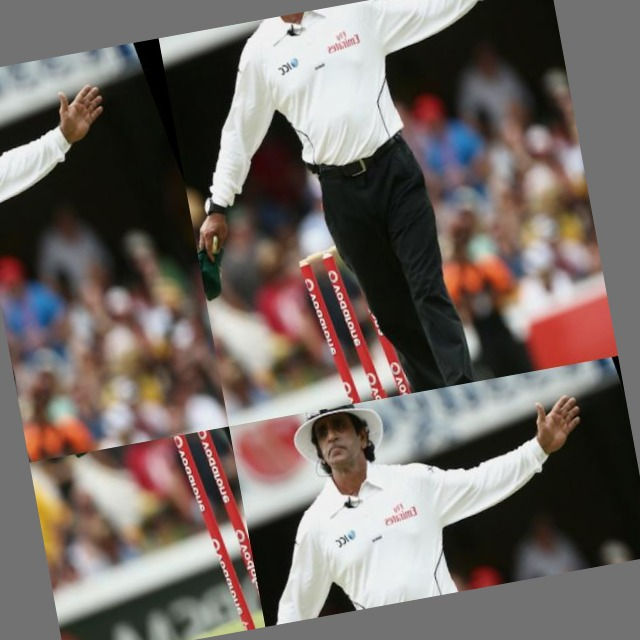No_Action: (0, 81, 140, 342)
No_Ball: (229, 356, 640, 627), (341, 0, 578, 171)
